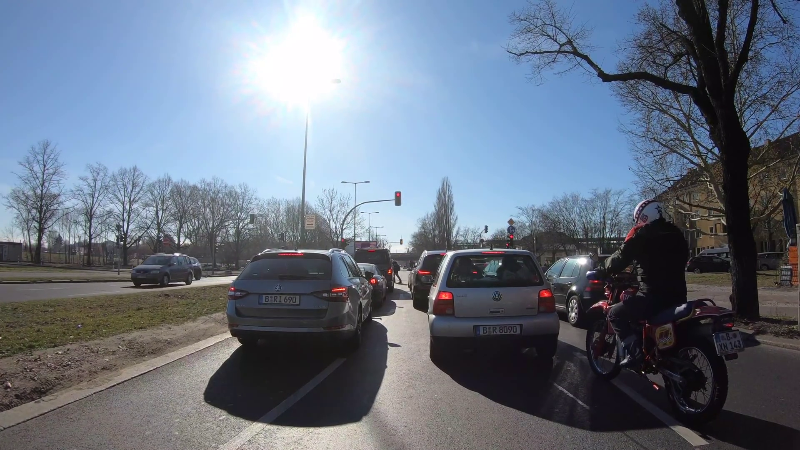Plate: (473, 322, 523, 336), (257, 292, 301, 307)
